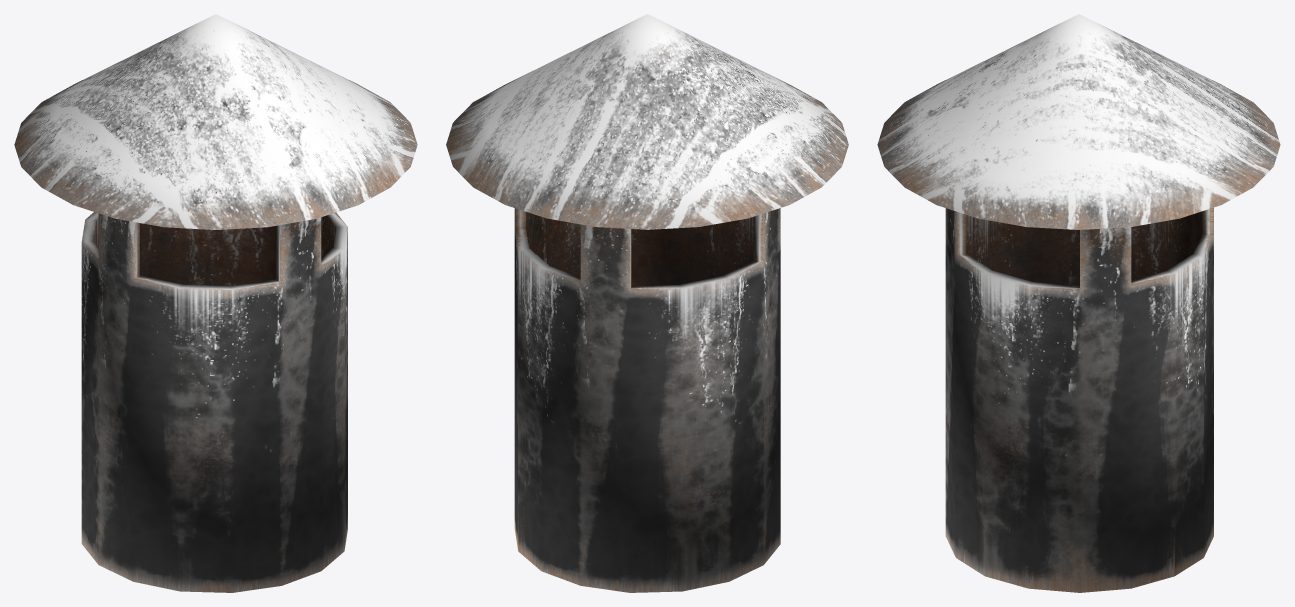
File: chimney02.fbx
3 views of the same model, side by side, from view 1: azimuth 30°, elevation 25°; view 2: azimuth 150°, elevation 25°; view 3: azimuth 270°, elevation 25° (orthographic).
Parts seen in each view (by area): view 1: Cylinder012; view 2: Cylinder012; view 3: Cylinder012.
Part boxes in pixels (x1,y1,x2,y2): Cylinder012: (14, 14, 417, 592); Cylinder012: (446, 14, 848, 592); Cylinder012: (877, 14, 1280, 592).
Size of the model in its own units: 35.76 by 51.16 by 35.76.
